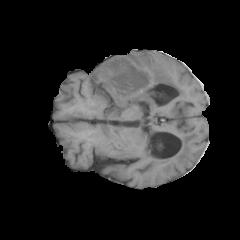glioma: (92, 53, 197, 153)
